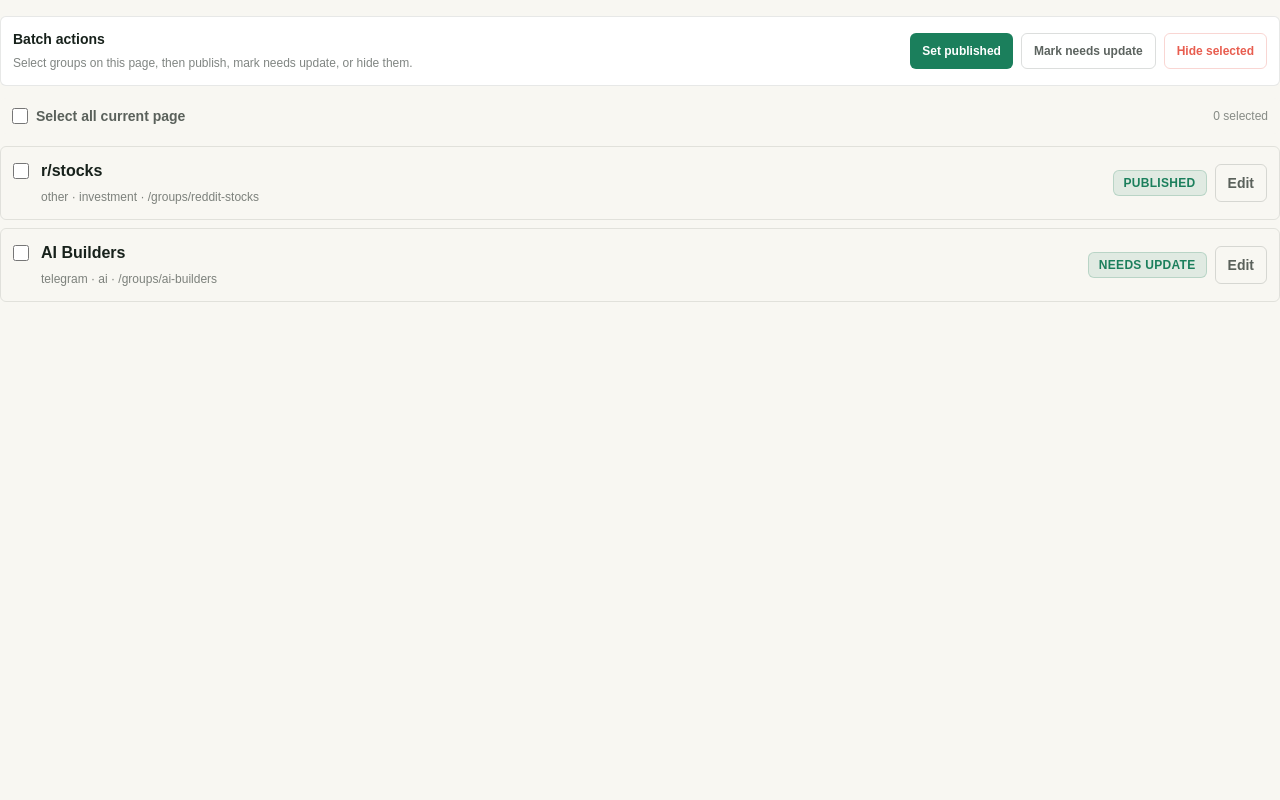
Test: AdminBatchGroupForm › selects the current page and confirms before submitting a batch action
Click the checkbox labelled "Select all current page" at (20, 116), box [12,108,28,124]
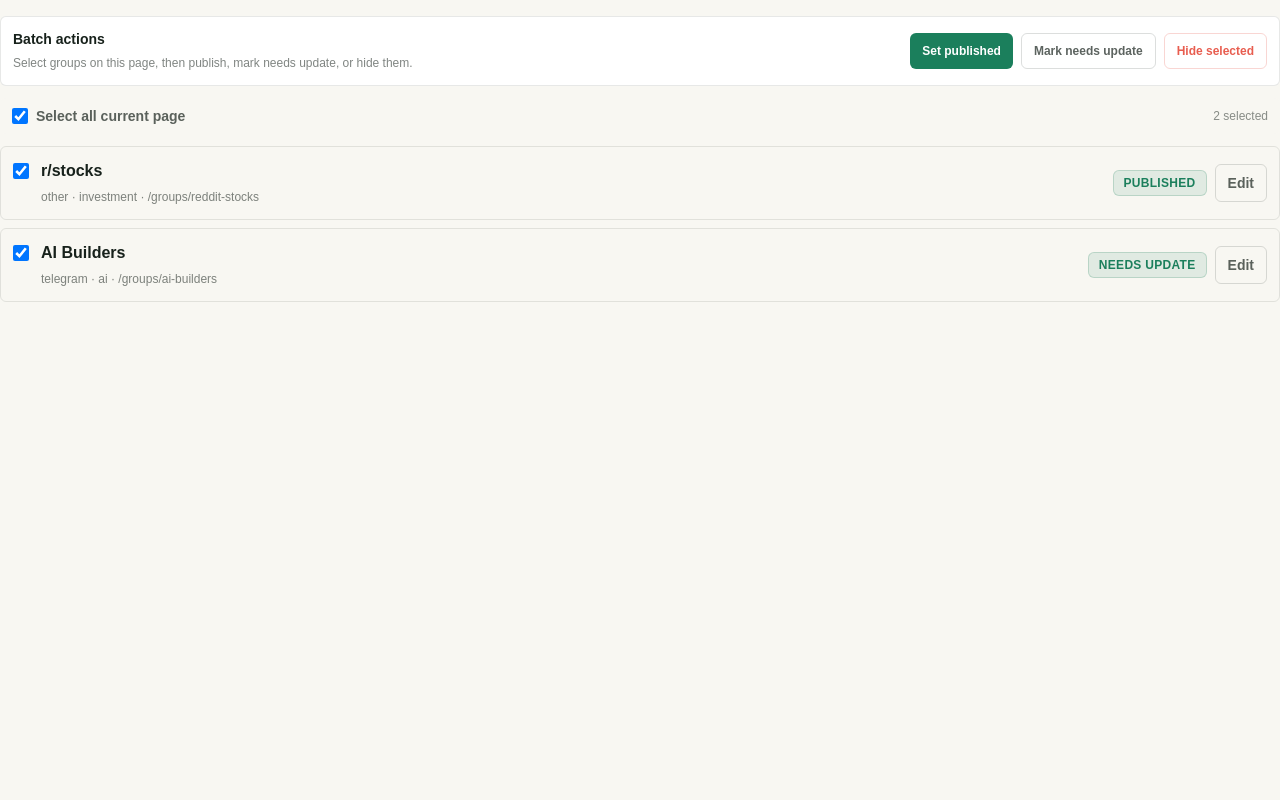
Expected: the checkbox labelled "r/stocks other · investment · /groups/reddit-stocks" is checked, [13,163,29,179]
Expected: the checkbox labelled "AI Builders telegram · ai · /groups/ai-builders" is checked, [13,245,29,261]
Expected: the text "2 selected" is shown, [1213,108,1268,124]
Click the button "Hide selected" at (1215, 51), box [1164,33,1267,69]
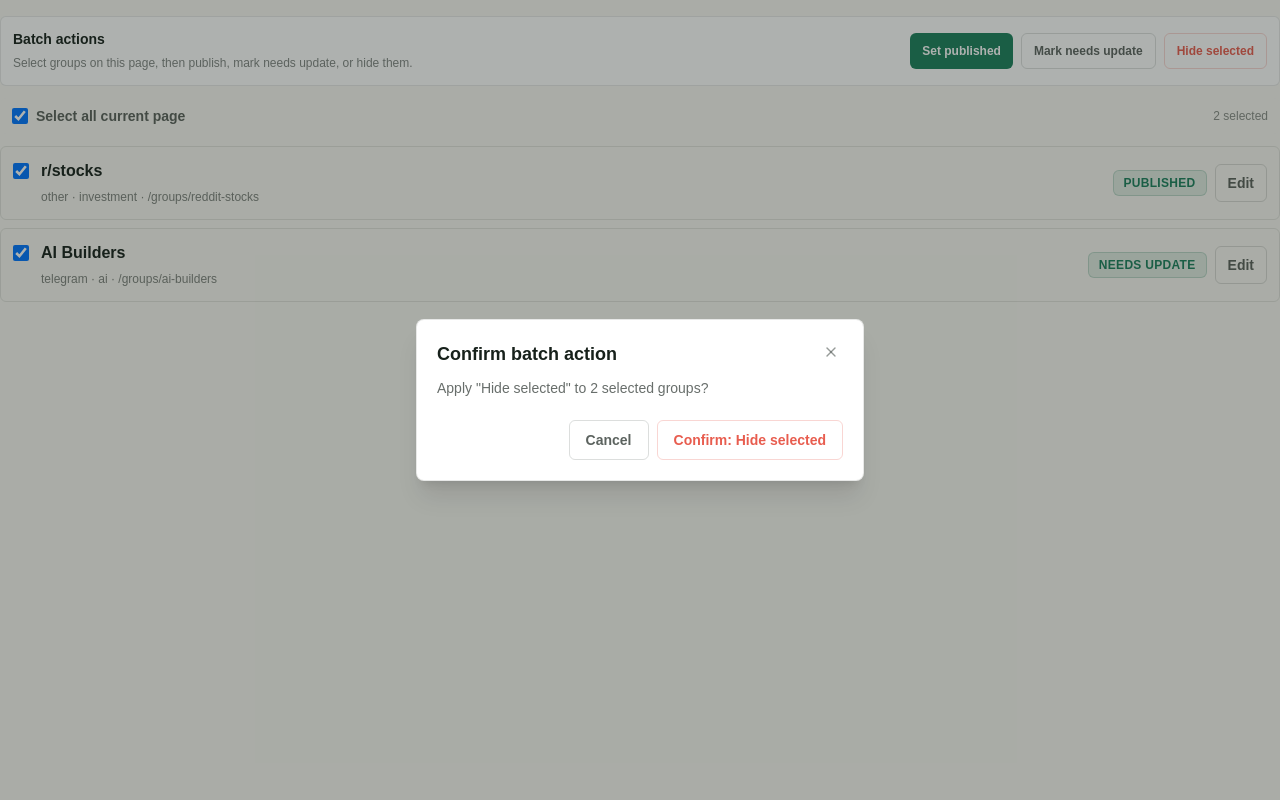
Expected: the dialog "Confirm batch action" is shown
Expected: the text "Apply \"Hide selected\" to 2 selected groups?" is shown, [437,376,708,400]
Click the button named "Cancel" at (831, 352), box [819,340,843,364]
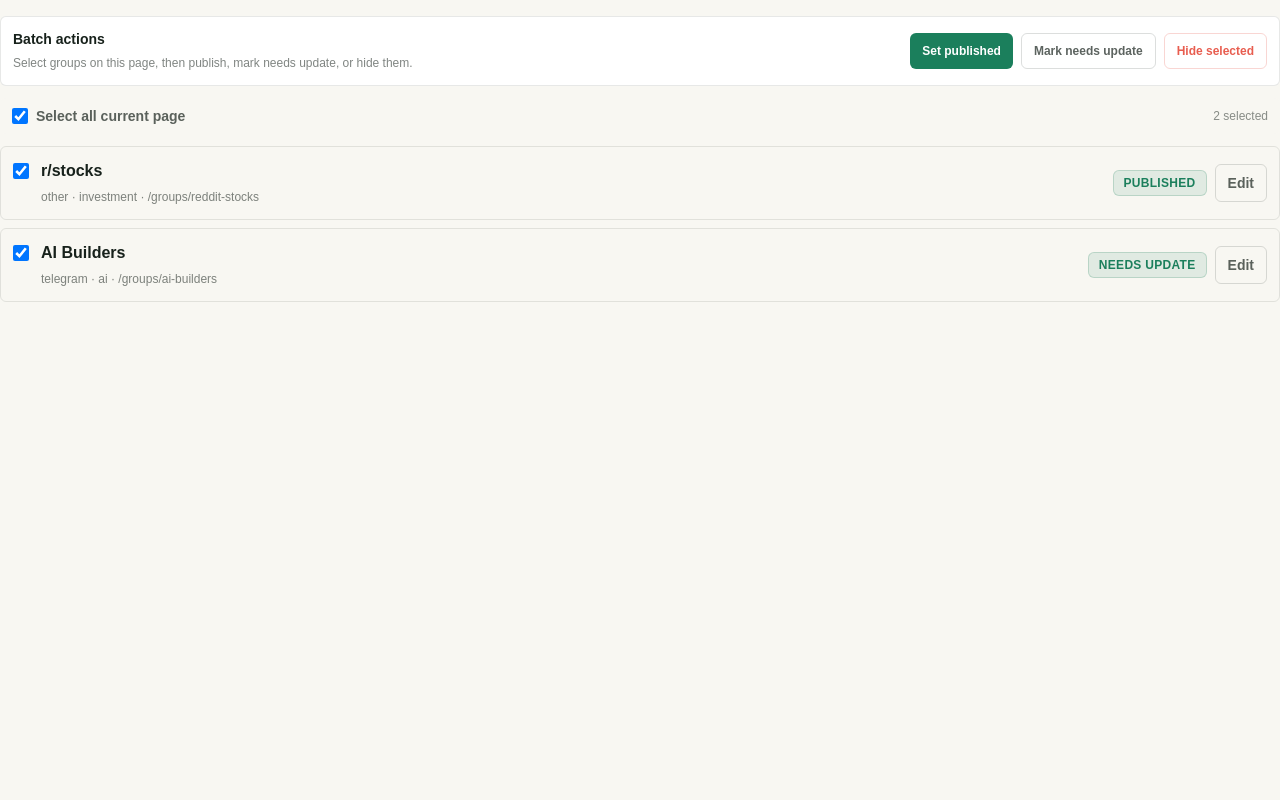
Expected: the heading "Confirm batch action" is gone
